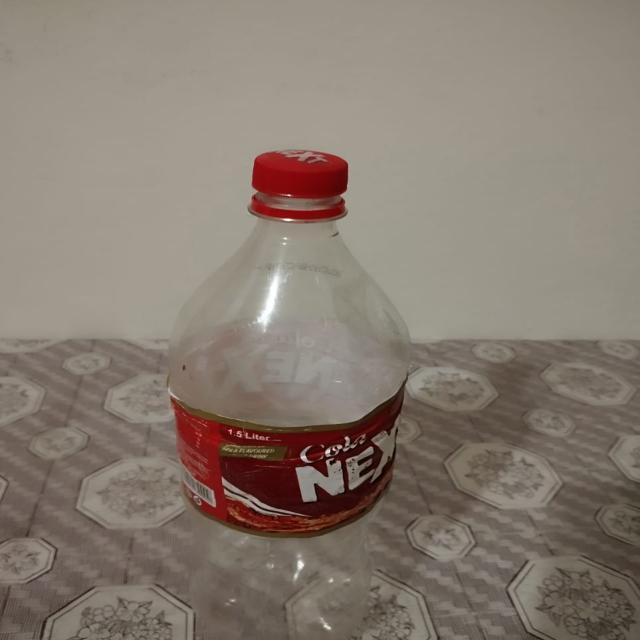bottle: (170, 140, 414, 640)
cap: (243, 154, 360, 222)
label: (167, 385, 402, 536)
